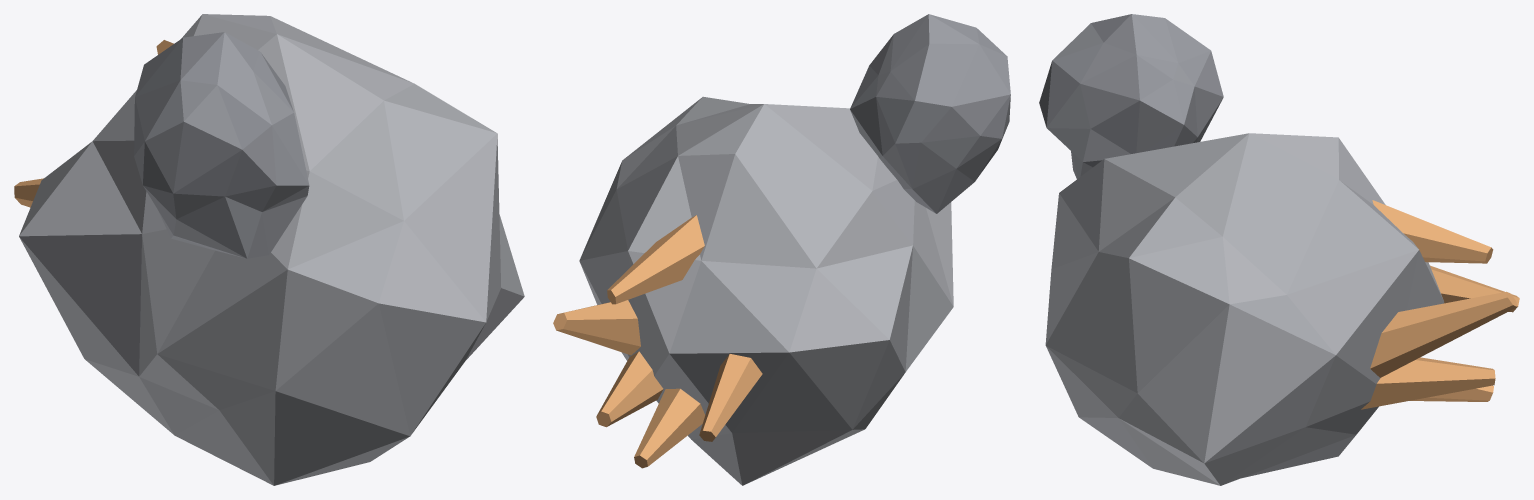
The model's file is RockCopper.fbx.
3 views of the same model, side by side, from view 1: azimuth 30°, elevation 25°; view 2: azimuth 150°, elevation 25°; view 3: azimuth 270°, elevation 25° (orthographic). The views are drawn at different scales.
Visible parts, largest first — view 1: fam_rock, fam_rock_dark, fam_copper; view 2: fam_rock, fam_rock_dark, fam_copper; view 3: fam_rock, fam_rock_dark, fam_copper.
Part boxes in pixels (x1,y1,x2,y2): fam_rock: (19, 14, 524, 485); fam_rock_dark: (134, 32, 309, 258); fam_copper: (14, 40, 173, 207); fam_rock: (579, 96, 953, 485); fam_rock_dark: (850, 14, 1010, 213); fam_copper: (553, 215, 762, 468); fam_rock: (1045, 133, 1444, 485); fam_rock_dark: (1039, 14, 1223, 178); fam_copper: (1361, 200, 1519, 409).
Bounding box in the file's own units: 4.04 × 4.5 × 4.74.
